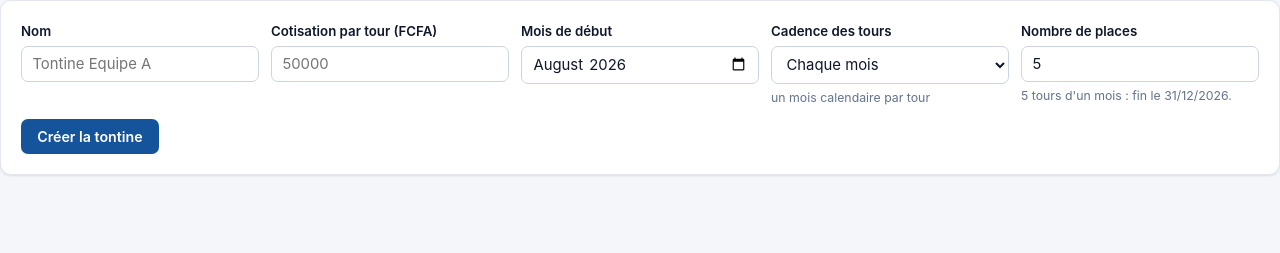
Test: CreateTontineForm › refuse un montant nul ou negatif sans appeler l API
The image size is (1280, 253).
In the field labelled "Nom": (140, 64) x1=21 y1=46 x2=259 y2=82, type "Tontine invalide"
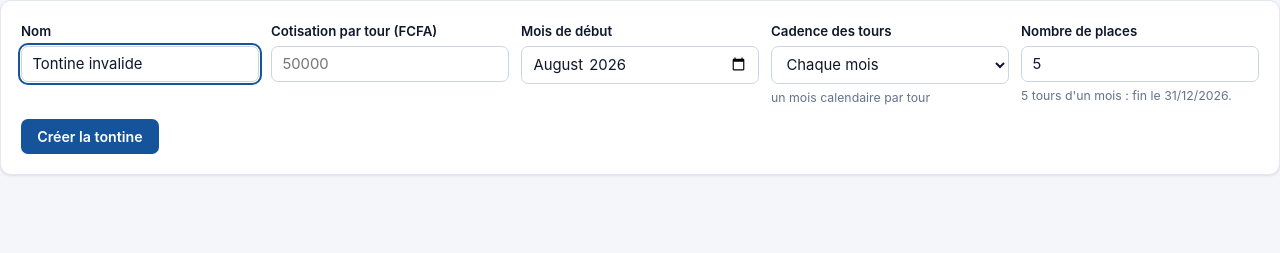
In the number field labelled "Cotisation par tour (FCFA)": (390, 64) x1=271 y1=46 x2=509 y2=82, type "0"
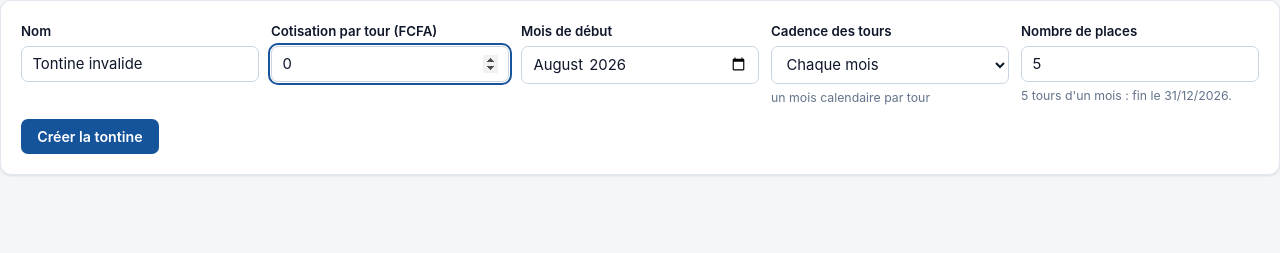
Click the button "Créer la tontine": (90, 136) x1=21 y1=119 x2=159 y2=154
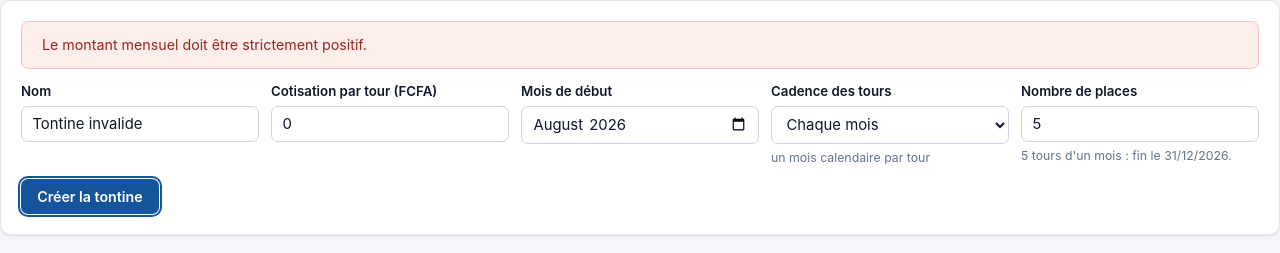
Now the message shows "strictement positif", box x1=42 y1=36 x2=367 y2=53
